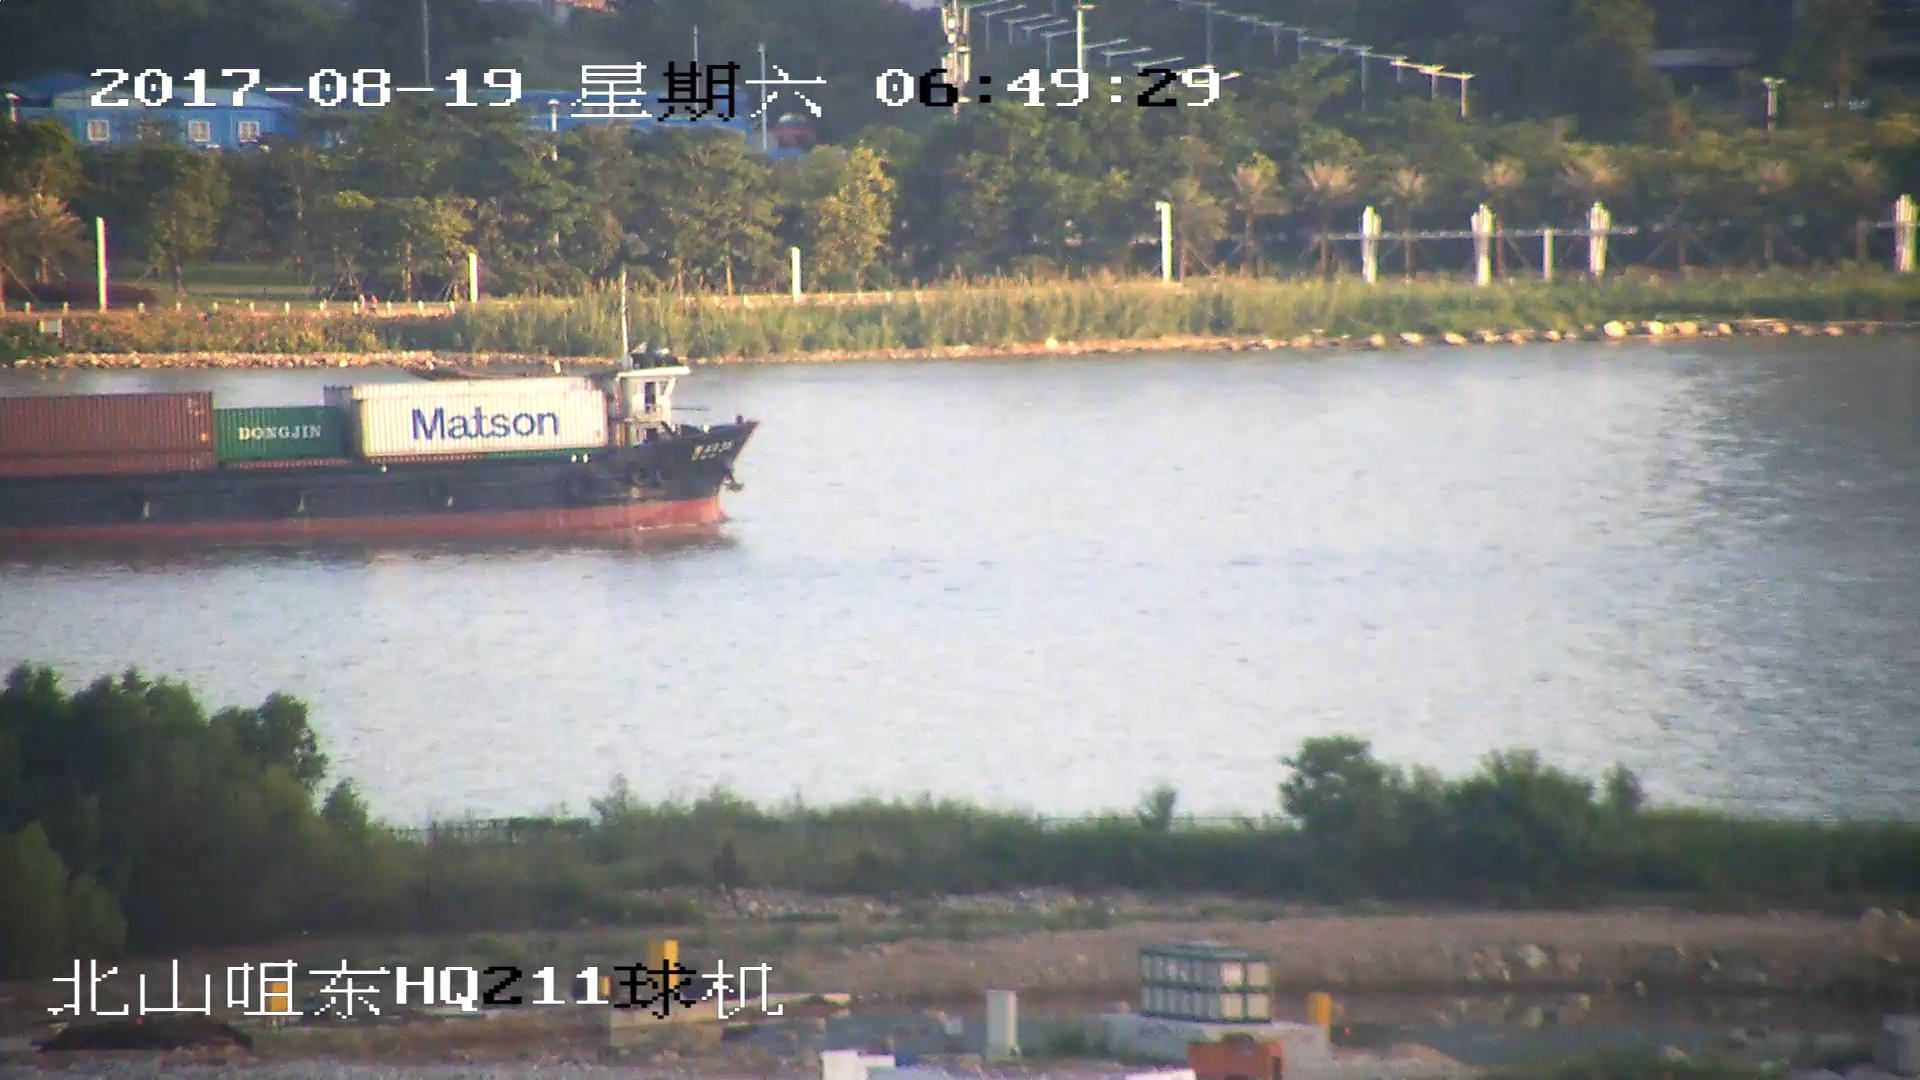container ship: (1, 342, 746, 543)
